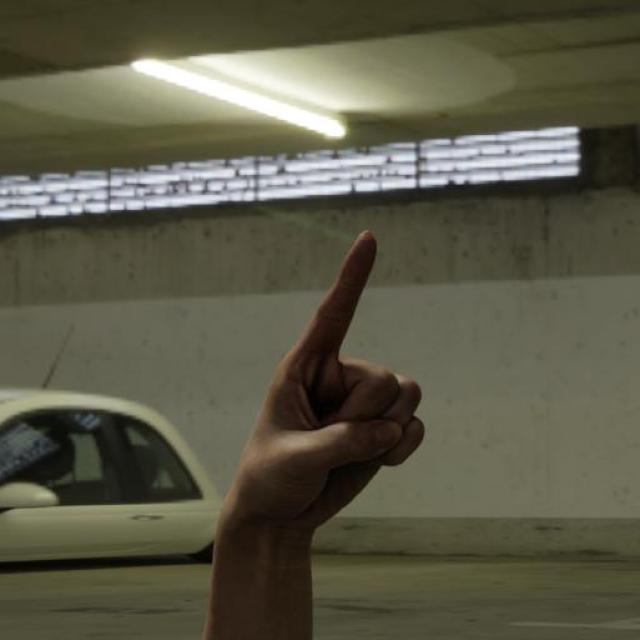Z: (222, 225, 430, 536)
